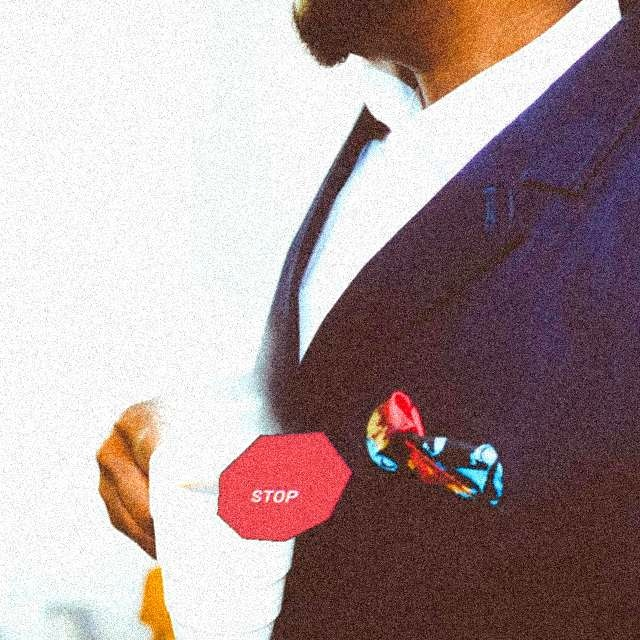STOP: (216, 430, 353, 542)
